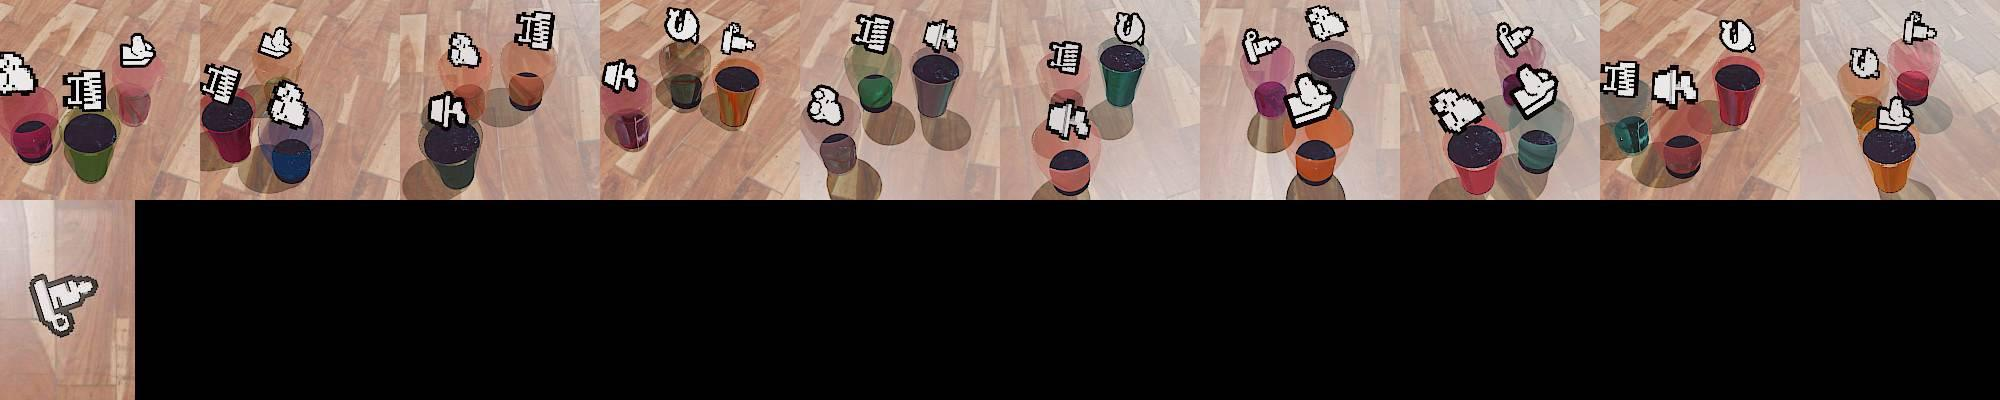icon: (28, 273, 102, 339), (1284, 73, 1338, 127), (1510, 62, 1559, 118), (1431, 87, 1487, 134), (1649, 64, 1700, 110), (267, 80, 311, 127), (1046, 97, 1092, 141), (852, 11, 894, 56), (514, 9, 556, 52), (202, 62, 242, 107), (62, 70, 105, 111), (426, 90, 469, 130), (1304, 4, 1348, 42), (0, 51, 38, 96), (1601, 60, 1642, 101), (806, 83, 843, 125), (1496, 20, 1536, 59), (1242, 28, 1283, 65), (921, 17, 958, 55), (1719, 18, 1758, 55), (663, 6, 700, 43), (446, 31, 482, 69), (1876, 94, 1915, 130), (120, 32, 157, 68), (719, 20, 756, 56), (602, 59, 639, 93), (1047, 39, 1082, 76), (1902, 10, 1936, 46), (259, 25, 293, 60), (1114, 10, 1147, 46), (1848, 46, 1880, 79)
